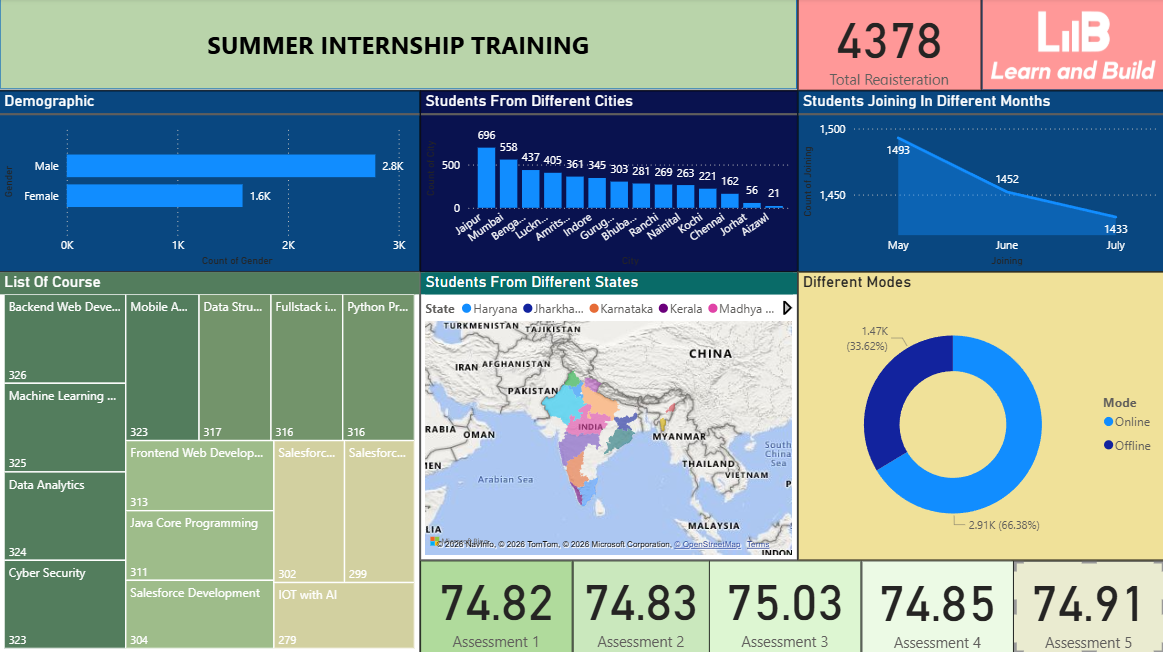

Layout of this report page (visuals, bound fields, positions):
{"tool":"powerbi","page":{"name":"Dashboard","canvas":[1280,720],"ordinal":0},"visuals":[{"type":"shape","box":[0,0,877.1,101.4],"z":0},{"type":"card","fields":{"Values":["Accounts.TotalReg"]},"box":[877.1,0,201.4,101.4],"z":1000},{"type":"shape","box":[1078.6,0,201.4,101.4],"z":2000},{"type":"image","box":[1078.6,0,201.4,101.4],"z":3000},{"type":"barChart","title":"Demographic","fields":{"Category":["Student Record.Gender"],"Y":["CountNonNull(Student Record.Gender)"]},"box":[0,101.5,462.4,199],"z":4000},{"type":"treemap","title":"List Of Course","fields":{"Group":["Domain Record.Domain"],"Values":["CountNonNull(Domain Record.Domain)"]},"box":[0,300.5,462.4,419.9],"z":5000},{"type":"card","fields":{"Values":["Avg(Domain Record.Assessement 1)"]},"box":[462.9,617.1,167.1,101.4],"z":6000},{"type":"card","fields":{"Values":["Avg(Domain Record.Assessement 5)"]},"box":[1112.9,617.1,167.1,102.9],"z":7000},{"type":"card","fields":{"Values":["Avg(Domain Record.Assessement 4)"]},"box":[947.1,617.1,167.1,102.9],"z":8000},{"type":"card","fields":{"Values":["Avg(Domain Record.Assessement 2)"]},"box":[630,617.1,150,101.4],"z":9000},{"type":"card","fields":{"Values":["Avg(Domain Record.Assessement 3)"]},"box":[780,617.1,167.1,101.4],"z":10000},{"type":"columnChart","title":"Students From Different Cities","fields":{"Category":["Student Record.City"],"Y":["CountNonNull(Student Record.City)"]},"box":[462.4,101.5,414.4,199],"z":11000},{"type":"areaChart","title":"Students Joining In Different Months","fields":{"Category":["Domain Record.Joining"],"Y":["CountNonNull(Domain Record.Joining)"]},"box":[876.8,101.5,403.4,199],"z":12000},{"type":"donutChart","title":"Different Modes","fields":{"Category":["Domain Record.Mode"],"Y":["CountNonNull(Domain Record.Mode)"]},"box":[876.8,300.5,403.4,317],"z":13000},{"type":"filledMap","title":"Students From Different States","fields":{"Category":["State.State"],"Series":["State.State"]},"box":[462.4,300.5,414.4,317],"z":14000}]}

Visuals, with their boxes in screenshot pixels (x1, y1, x2, y2), scaled from the page's 1280x720 canvas onto the 1163x652 screenshot:
shape: l=0, t=0, r=797, b=92
card - Accounts.TotalReg: l=797, t=0, r=980, b=92
shape: l=980, t=0, r=1162, b=92
image: l=980, t=0, r=1162, b=92
"Demographic" barChart: l=0, t=92, r=420, b=272
"List Of Course" treemap: l=0, t=272, r=420, b=651
card - Avg(Domain Record.Assessement 1): l=421, t=559, r=572, b=651
card - Avg(Domain Record.Assessement 5): l=1011, t=559, r=1162, b=651
card - Avg(Domain Record.Assessement 4): l=861, t=559, r=1012, b=651
card - Avg(Domain Record.Assessement 2): l=572, t=559, r=709, b=651
card - Avg(Domain Record.Assessement 3): l=709, t=559, r=861, b=651
"Students From Different Cities" columnChart: l=420, t=92, r=797, b=272
"Students Joining In Different Months" areaChart: l=797, t=92, r=1162, b=272
"Different Modes" donutChart: l=797, t=272, r=1162, b=559
"Students From Different States" filledMap: l=420, t=272, r=797, b=559
